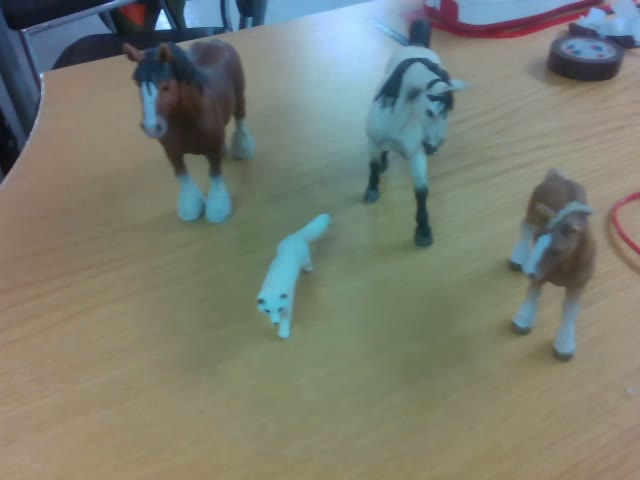toy: (117, 37, 252, 223), (362, 16, 464, 248), (508, 163, 594, 362), (254, 212, 330, 342)
